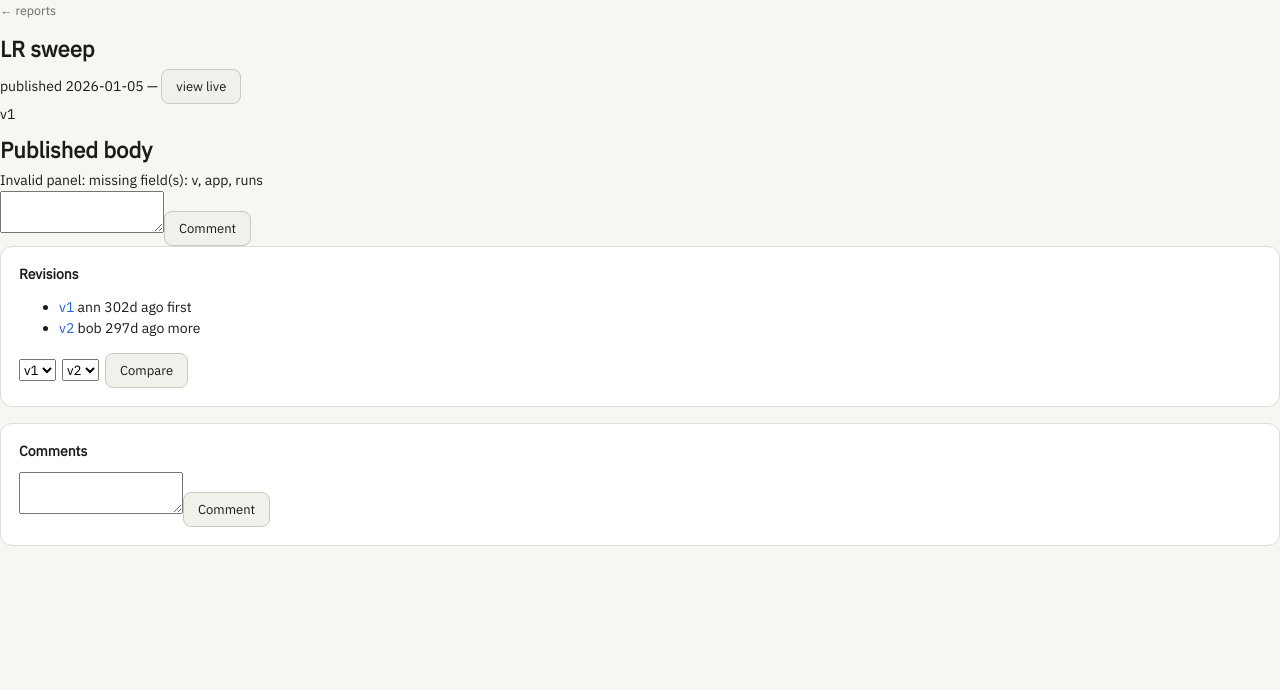
Test case: Report page › lists revisions and diffs two of them
Expected: the heading "Published body" is shown, [0, 135, 152, 164]
Expected: the text "first" is shown, [167, 298, 192, 316]
Click the button "Compare": (146, 370) [105, 353, 188, 388]
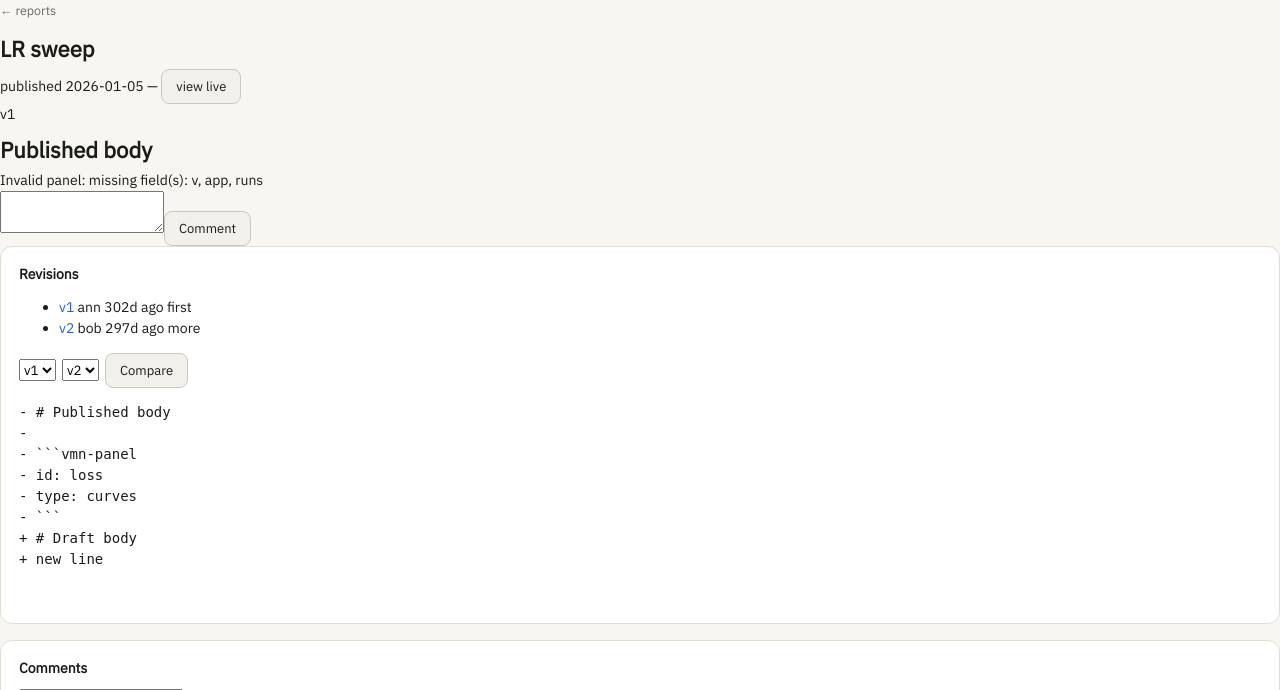
Now the text "+ new line" is shown, box [19, 551, 103, 567]
Now the text "- # Published body" is shown, box [19, 404, 171, 420]
